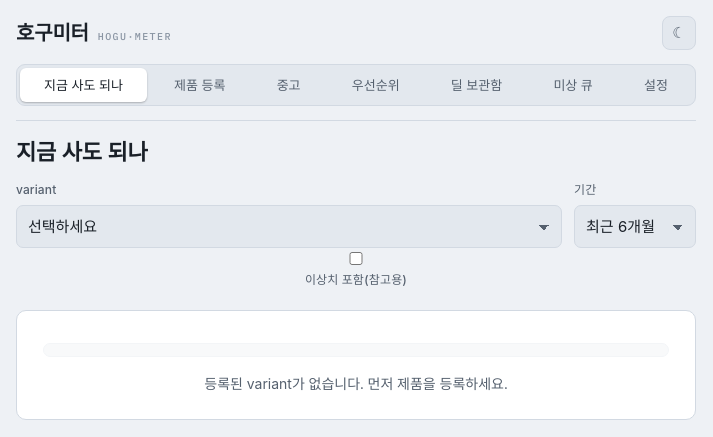
it: App › 탭으로 우선순위 화면에 간다
Click the button "우선순위" at [376, 85], box [328,68,424,102]
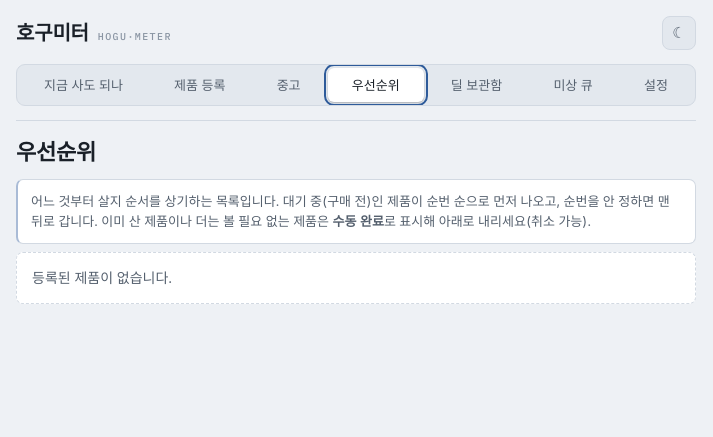
Expected: the heading "우선순위" is shown, [16,139,96,165]
